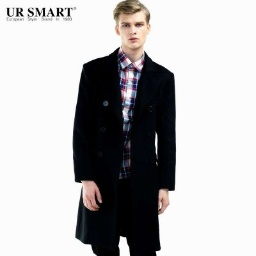face: (112, 1, 151, 51)
